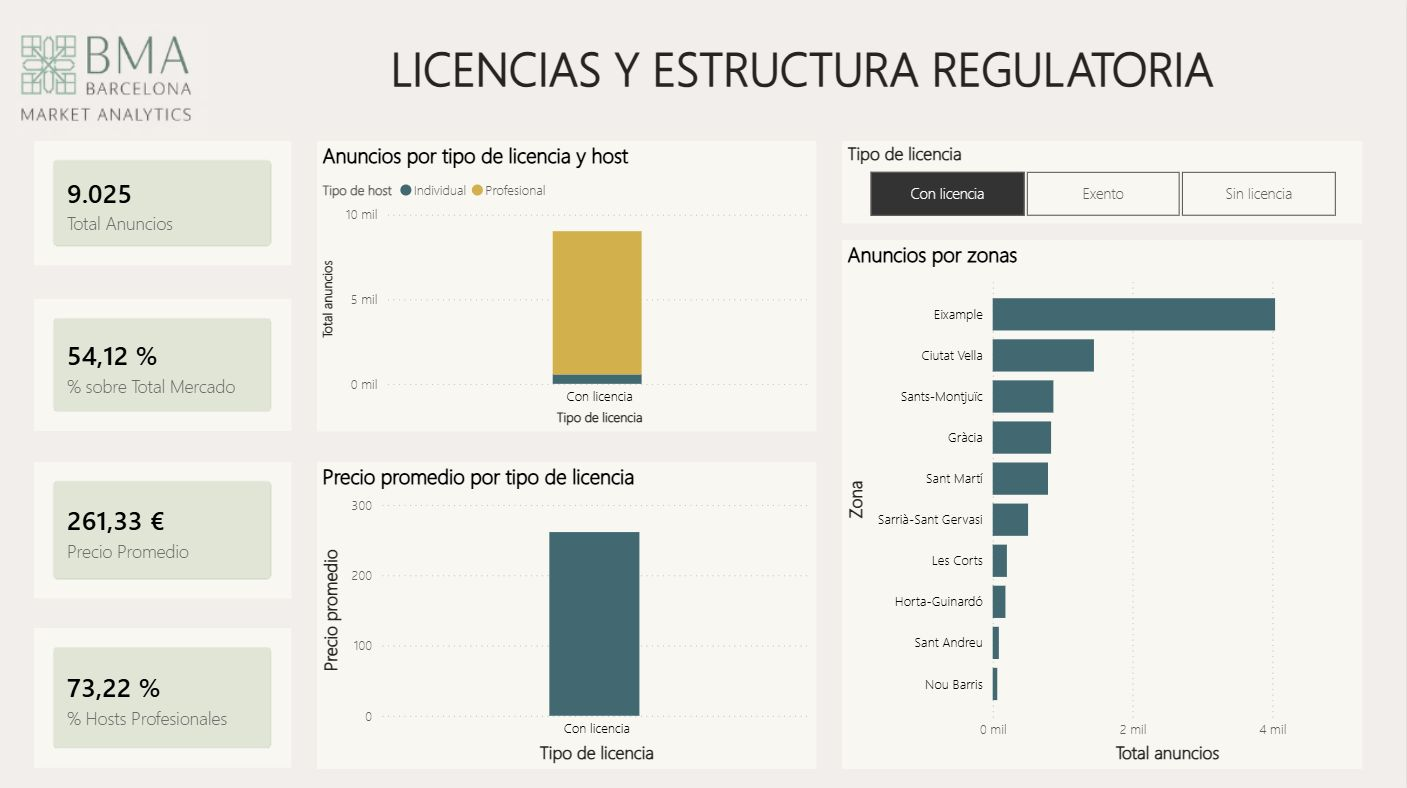

The dashboard page shown, as its layout file describes it:
{"tool":"powerbi","page":{"name":"Página 3","canvas":[1280,720],"ordinal":3},"visuals":[{"type":"slicer","title":"Tipo de licencia","fields":{"Values":["airbnb_barcelona_2025 dim_tipo_licencia.tipo_licencia"]},"box":[767.4,128.4,472.8,74.7],"z":0},{"type":"cardVisual","fields":{"Data":["Medidas.Total Anuncios"]},"box":[32.8,128.4,233.9,113.5],"z":1000},{"type":"cardVisual","fields":{"Data":["Medidas.% sobre Total Mercado"]},"box":[32.8,271.7,233.9,120.4],"z":2000},{"type":"cardVisual","fields":{"Data":["Medidas.Precio Promedio"]},"box":[32.8,420,233.9,124.4],"z":3000},{"type":"cardVisual","fields":{"Data":["Medidas.% Hosts Profesionales"]},"box":[32.8,571.3,233.9,127.4],"z":4000},{"type":"columnChart","title":"Anuncios por tipo de licencia y host","fields":{"Category":["airbnb_barcelona_2025 dim_tipo_licencia.tipo_licencia"],"Y":["Medidas.Total Anuncios"],"Series":["airbnb_barcelona_2025 dim_host.tipo_host"]},"box":[289.6,128.4,453.9,263.8],"z":5000},{"type":"clusteredColumnChart","title":"Precio promedio por tipo de licencia","fields":{"Category":["airbnb_barcelona_2025 dim_tipo_licencia.tipo_licencia"],"Y":["Medidas.Precio Promedio"]},"box":[289.6,420,453.9,278.7],"z":6000},{"type":"clusteredBarChart","title":"Anuncios por zonas","fields":{"Category":["airbnb_barcelona_2025 dim_barrio.zona"],"Y":["Medidas.Total Anuncios"]},"box":[767.4,218,472.8,480.7],"z":7000},{"type":"textbox","box":[183.1,26.9,1096.9,73.7],"z":8000}]}

Visuals, with their boxes in screenshot pixels (x1, y1, x2, y2), scaled from the page's 1280x720 canvas onto the 1407x788 screenshot:
"Tipo de licencia" slicer: <box>844,141,1363,222</box>
cardVisual - Medidas.Total Anuncios: <box>36,141,293,265</box>
cardVisual - Medidas.% sobre Total Mercado: <box>36,297,293,429</box>
cardVisual - Medidas.Precio Promedio: <box>36,460,293,596</box>
cardVisual - Medidas.% Hosts Profesionales: <box>36,625,293,765</box>
"Anuncios por tipo de licencia y host" columnChart: <box>318,141,817,429</box>
"Precio promedio por tipo de licencia" clusteredColumnChart: <box>318,460,817,765</box>
"Anuncios por zonas" clusteredBarChart: <box>844,239,1363,765</box>
textbox: <box>201,29,1406,110</box>
